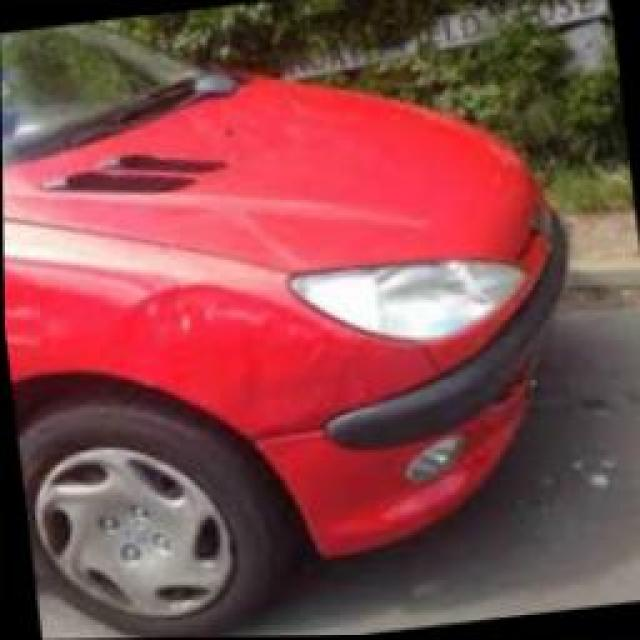Bonnet: (2, 178, 425, 272)
Bumper: (467, 361, 539, 476)
Fender: (2, 250, 272, 441)
